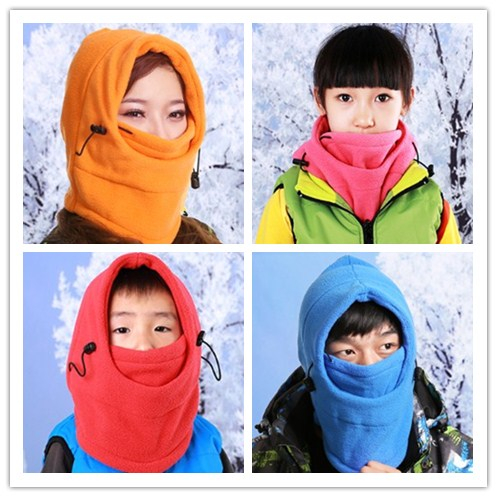face_mask: (92, 57, 189, 201), (316, 300, 406, 433), (104, 279, 183, 396), (324, 65, 402, 151)
